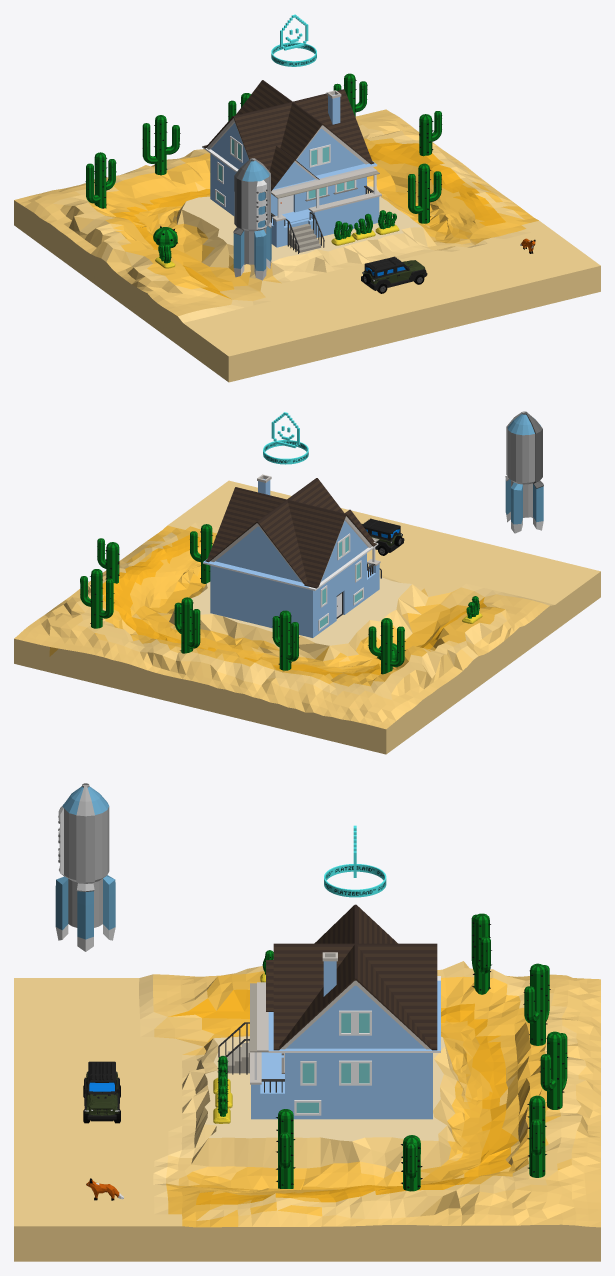
3 views of the same model, one above another, from view 1: azimuth 30°, elevation 25°; view 2: azimuth 150°, elevation 25°; view 3: azimuth 270°, elevation 25° (orthographic). The views are drawn at different scales.
Parts seen in each view (by area): view 1: Cube.001, Cube.1594, OBJRANDOM_ROCKETSHIP, VEHICLES_JEEP, Cylinder.044, Cylinder.037, Cylinder.045, TYPE_PREMIUM, Cylinder.038, Cylinder.042; view 2: Cube.001, Cube.1594, OBJRANDOM_ROCKETSHIP, Cylinder.042, Cylinder.045, Cylinder.044, Cylinder.043, VEHICLES_JEEP, TYPE_PREMIUM, Cylinder.037, Cylinder.038; view 3: Cube.001, Cube.1594, OBJRANDOM_ROCKETSHIP, VEHICLES_JEEP, Cylinder.043, Cylinder.044, Cylinder.045, Cylinder.042, Cylinder.037, TYPE_PREMIUM, Cylinder.038.
Boxes of the visible parts, box(x1,y1,x2,y2) form: Cube.001: box(14, 109, 600, 382); Cube.1594: box(202, 80, 381, 253); OBJRANDOM_ROCKETSHIP: box(233, 158, 271, 280); VEHICLES_JEEP: box(361, 256, 427, 293); Cylinder.044: box(142, 115, 180, 175); Cylinder.037: box(407, 163, 441, 223); Cylinder.045: box(85, 152, 116, 208); TYPE_PREMIUM: box(271, 14, 316, 66); Cylinder.038: box(419, 111, 442, 156); Cylinder.042: box(333, 73, 367, 116); Cube.001: box(14, 480, 600, 754); Cube.1594: box(203, 474, 381, 637); OBJRANDOM_ROCKETSHIP: box(505, 411, 543, 533); Cylinder.042: box(80, 569, 114, 628); Cylinder.045: box(368, 618, 405, 674); Cylinder.044: box(272, 610, 299, 670); Cylinder.043: box(174, 597, 200, 653); VEHICLES_JEEP: box(361, 518, 404, 555); TYPE_PREMIUM: box(263, 412, 308, 464); Cylinder.037: box(190, 524, 216, 583); Cylinder.038: box(97, 538, 119, 583); Cube.001: box(14, 961, 600, 1261); Cube.1594: box(218, 904, 440, 1119); OBJRANDOM_ROCKETSHIP: box(55, 783, 115, 951); VEHICLES_JEEP: box(83, 1061, 120, 1123); Cylinder.043: box(539, 1031, 567, 1109); Cylinder.044: box(523, 963, 550, 1045); Cylinder.045: box(471, 913, 491, 994); Cylinder.042: box(527, 1095, 546, 1177); Cylinder.037: box(276, 1109, 295, 1188); TYPE_PREMIUM: box(324, 825, 386, 897); Cylinder.038: box(401, 1135, 422, 1191).
Size of the model in its own units: 4002 by 2387 by 4001.
Materials: 35 (4 with a texture image).
